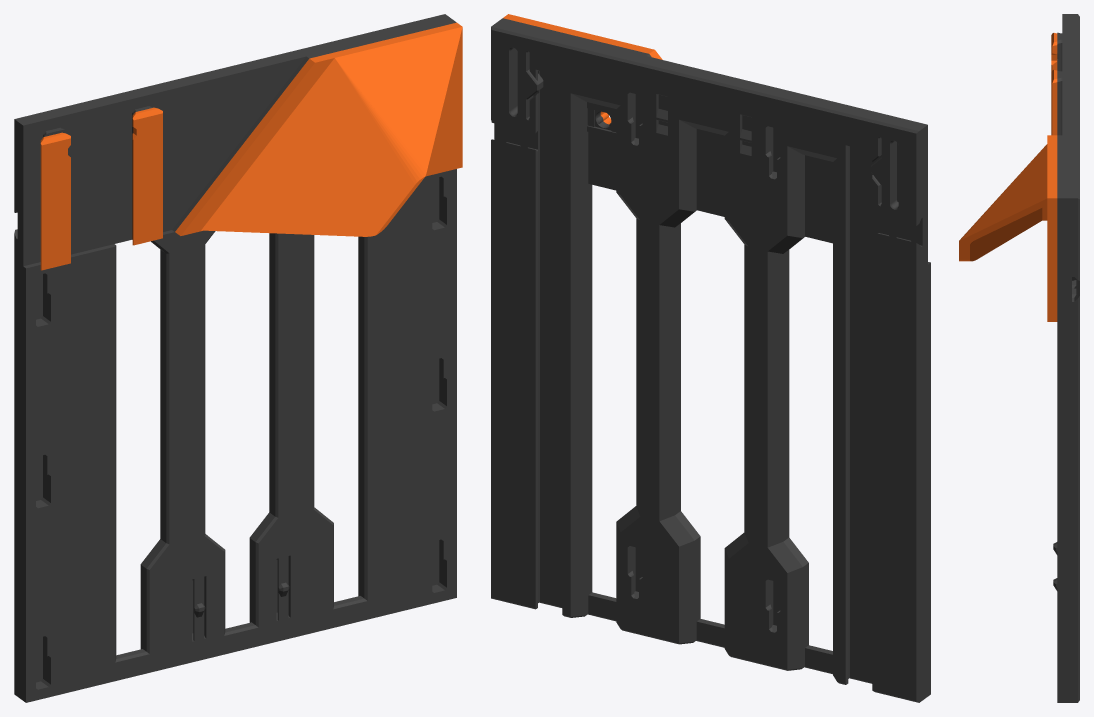
The model's file is Faceplate_EdgeLabel_1W-2H.lib.glb.
3 views of the same model, side by side, from view 1: azimuth 30°, elevation 25°; view 2: azimuth 150°, elevation 25°; view 3: azimuth 270°, elevation 25° (orthographic). The views are drawn at different scales.
Parts seen in each view (by area): view 1: Faceplate_EdgeLabel_1W-2H; view 2: Faceplate_EdgeLabel_1W-2H; view 3: Faceplate_EdgeLabel_1W-2H.
Boxes of the visible parts, <box> form: Faceplate_EdgeLabel_1W-2H: <box>14,14,462,702</box>; Faceplate_EdgeLabel_1W-2H: <box>491,14,930,702</box>; Faceplate_EdgeLabel_1W-2H: <box>959,14,1079,702</box>.
Bounding box in the file's own units: 87 × 111 × 24.09.
